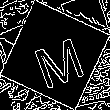M_N: (25, 24, 85, 86)
